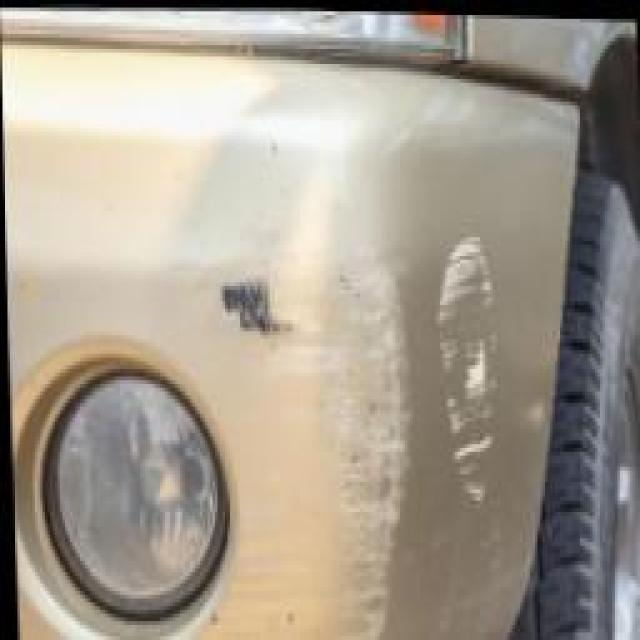Bumper: (2, 49, 569, 640)
